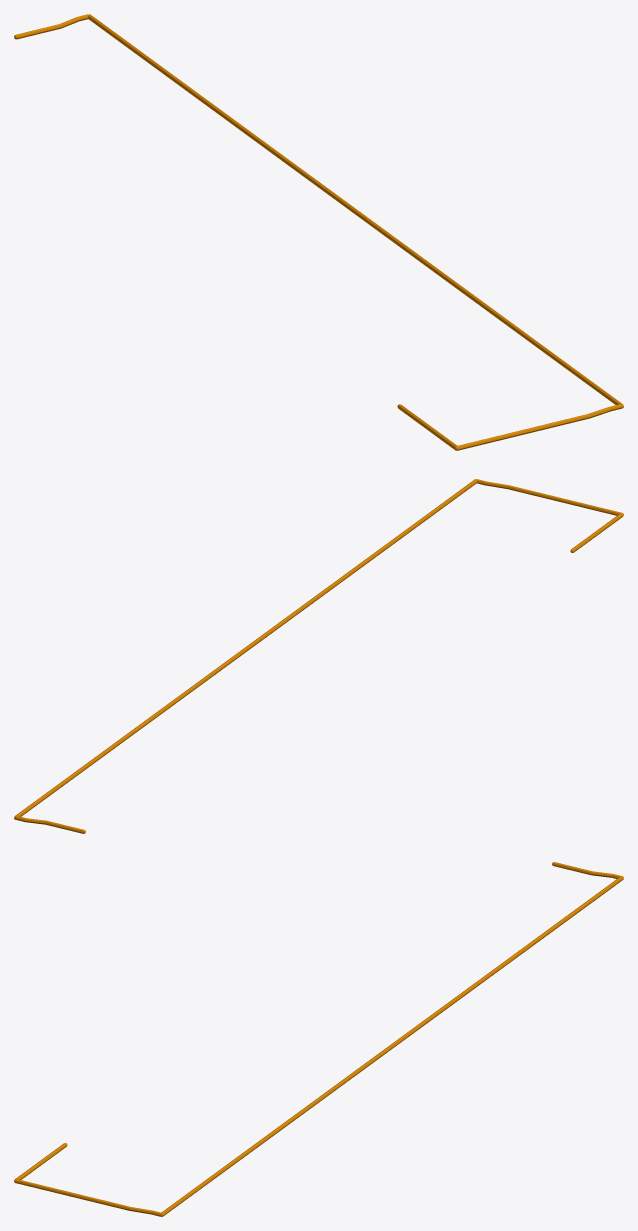
3 renders of one model, top to bottom at view 1: azimuth 30°, elevation 25°; view 2: azimuth 150°, elevation 25°; view 3: azimuth 330°, elevation 25°, orthographic. The views are drawn at different scales.
Bounding box in the file's own units: 779 × 20 × 4236.
